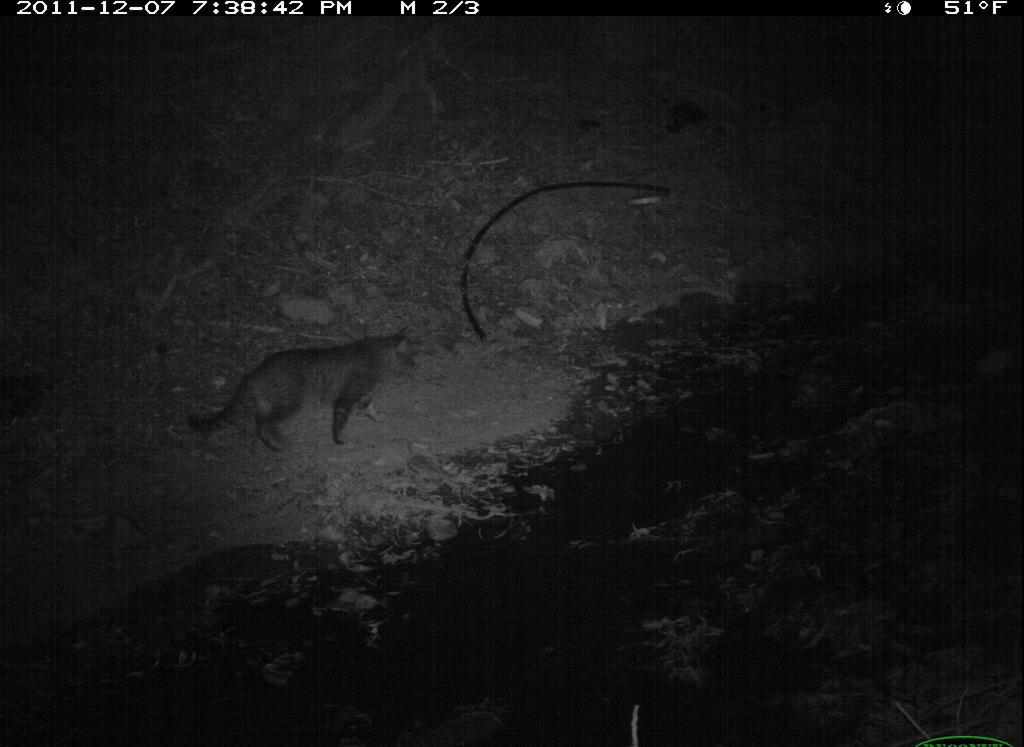cat: (166, 315, 424, 482)
